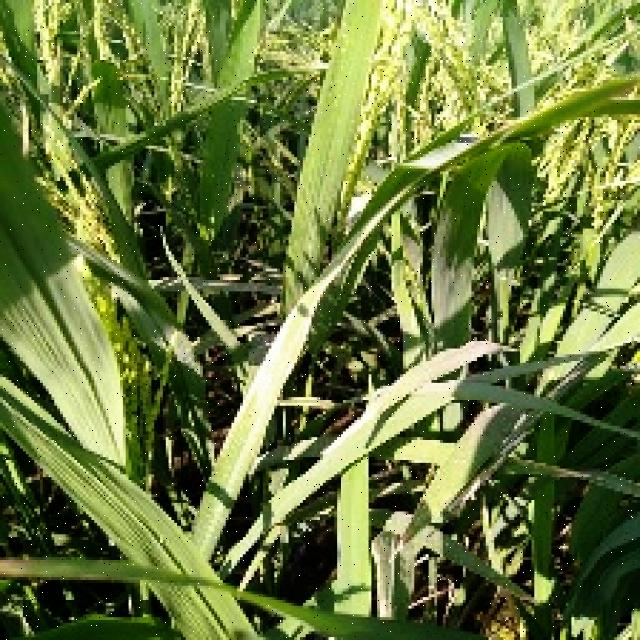health: (285, 0, 640, 486)
